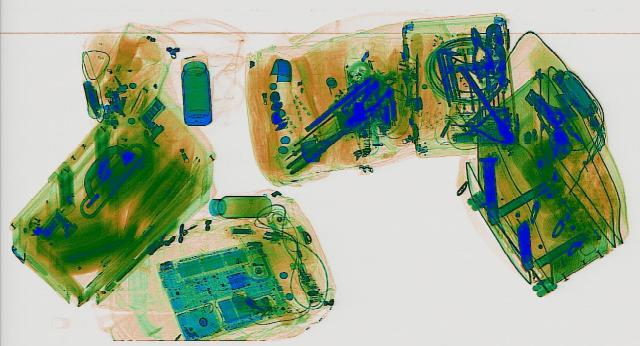Pliers: (462, 26, 498, 81), (483, 21, 503, 85)
